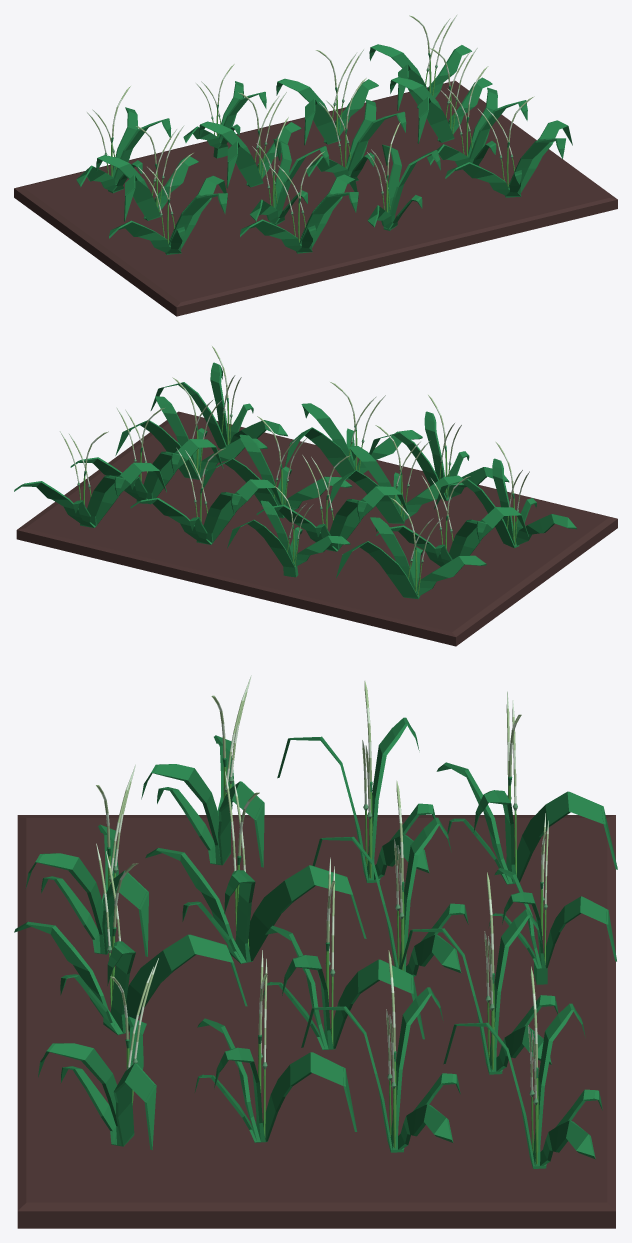
File: cultivo arroz grupo.fbx
3 renders of one model, top to bottom at view 1: azimuth 30°, elevation 25°; view 2: azimuth 150°, elevation 25°; view 3: azimuth 270°, elevation 25°, orthographic. The views are drawn at different scales.
Visible parts, largest first — view 1: Cube.001, Cube, rice.001, rice.003, rice.002; view 2: Cube.001, Cube, rice.001, rice.003, rice.002; view 3: Cube.001, Cube, rice.001, rice.002, rice.003.
Part boxes in pixels (left/top/right/bottom): Cube.001: left=14, top=80, right=617, bottom=316; Cube: left=76, top=44, right=572, bottom=254; rice.001: left=110, top=15, right=534, bottom=243; rice.003: left=87, top=14, right=504, bottom=237; rice.002: left=92, top=18, right=514, bottom=229; Cube.001: left=16, top=411, right=617, bottom=646; Cube: left=14, top=362, right=576, bottom=599; rice.001: left=83, top=346, right=514, bottom=591; rice.003: left=60, top=377, right=529, bottom=595; rice.002: left=68, top=375, right=522, bottom=578; Cube.001: left=17, top=815, right=615, bottom=1228; Cube: left=14, top=717, right=617, bottom=1168; rice.001: left=96, top=681, right=546, bottom=1156; rice.002: left=106, top=684, right=548, bottom=1152; rice.003: left=96, top=675, right=545, bottom=1164.
Size of the model in its own units: 4639 by 1053 by 2849.
